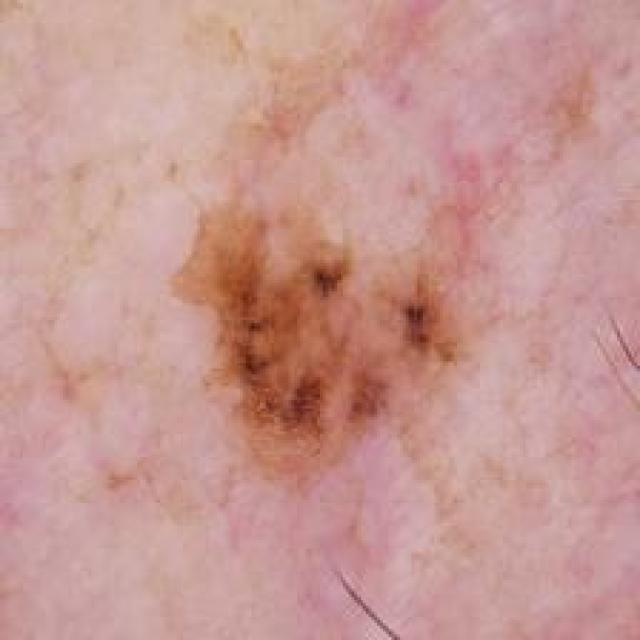Cancer: (186, 184, 497, 515)
